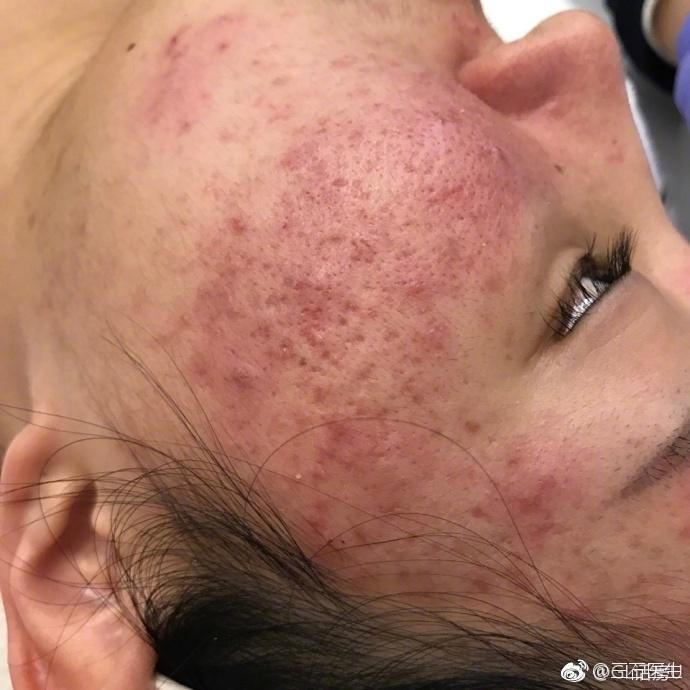fore: (167, 288, 232, 349), (290, 262, 343, 336), (293, 487, 353, 545), (403, 172, 481, 215), (304, 175, 362, 229), (414, 94, 476, 140), (438, 486, 498, 533), (152, 16, 216, 60), (398, 316, 454, 362), (161, 88, 212, 134), (241, 301, 288, 345), (427, 224, 466, 275), (304, 411, 349, 452), (261, 330, 305, 371), (221, 201, 262, 245), (297, 371, 340, 411), (354, 233, 391, 279), (510, 486, 550, 528), (301, 222, 346, 259), (285, 454, 331, 490), (386, 364, 428, 402), (205, 252, 248, 288), (275, 144, 316, 181), (215, 360, 250, 403), (346, 354, 386, 390), (391, 276, 446, 301), (526, 464, 565, 497), (367, 400, 397, 441), (273, 188, 295, 242), (495, 183, 529, 217), (184, 348, 217, 380), (388, 236, 422, 267), (263, 101, 308, 124), (311, 342, 344, 373), (461, 566, 494, 596), (363, 441, 396, 471), (324, 50, 361, 76), (461, 13, 493, 42), (339, 119, 366, 153), (434, 123, 469, 149), (496, 447, 531, 473), (397, 148, 426, 179), (336, 289, 370, 315), (480, 269, 512, 296), (595, 145, 631, 169), (209, 9, 252, 29), (370, 497, 409, 519), (308, 107, 334, 139), (210, 33, 238, 62), (373, 318, 404, 344), (256, 254, 290, 277), (211, 121, 243, 145), (538, 95, 568, 120), (370, 196, 397, 222), (486, 141, 515, 164), (342, 326, 372, 348), (458, 415, 488, 436), (468, 142, 493, 164), (399, 528, 424, 549)
